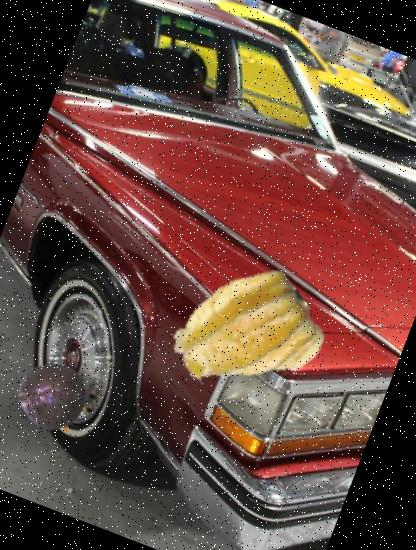Passion: (7, 350, 101, 444)
Physalis: (157, 250, 336, 428)
